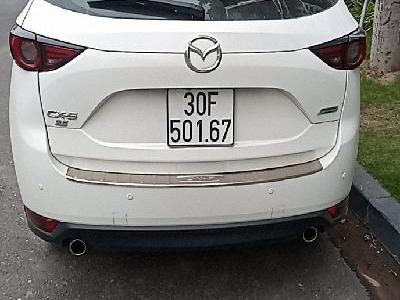car: (167, 88, 234, 148)
